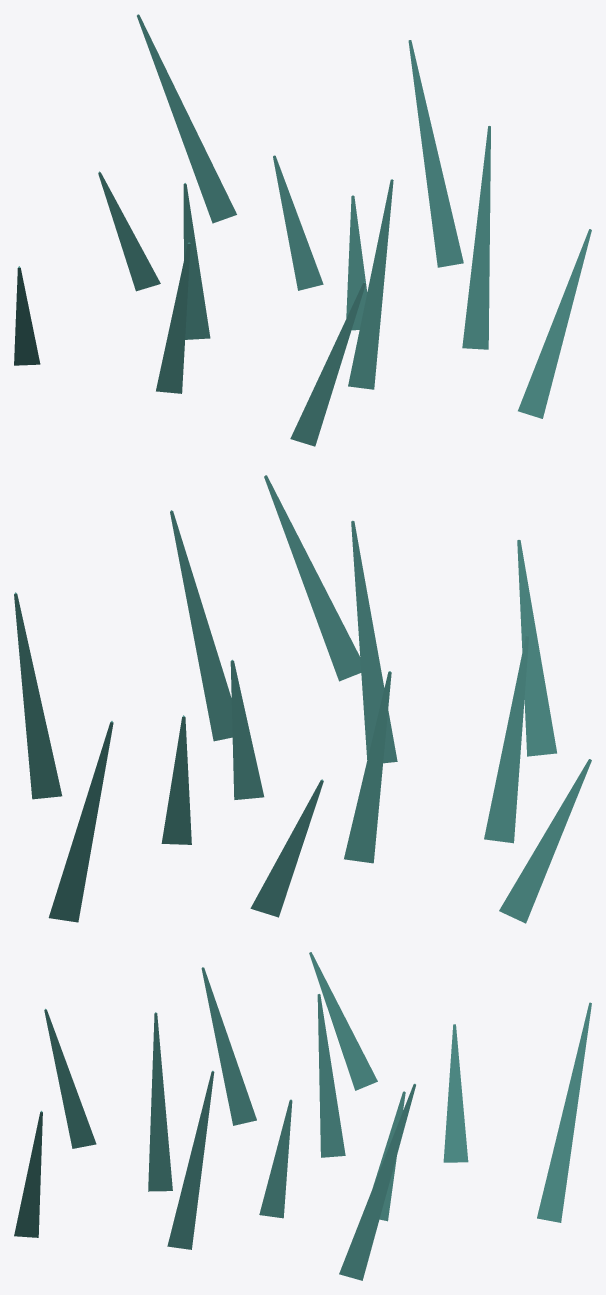
Rendered from Nature_Grass_Clump.glb.
3 renders of one model, top to bottom at view 1: azimuth 30°, elevation 25°; view 2: azimuth 150°, elevation 25°; view 3: azimuth 270°, elevation 25°, orthographic. The views are drawn at different scales.
Parts seen in each view (by area): view 1: Nature_Grass_Clump; view 2: Nature_Grass_Clump; view 3: Nature_Grass_Clump.
Boxes of the visible parts, bbox=[...] form: Nature_Grass_Clump: bbox=[14, 14, 591, 446]; Nature_Grass_Clump: bbox=[14, 475, 591, 923]; Nature_Grass_Clump: bbox=[14, 952, 591, 1280].
Size of the model in its own units: 0.6264 by 0.2676 by 0.7262.
